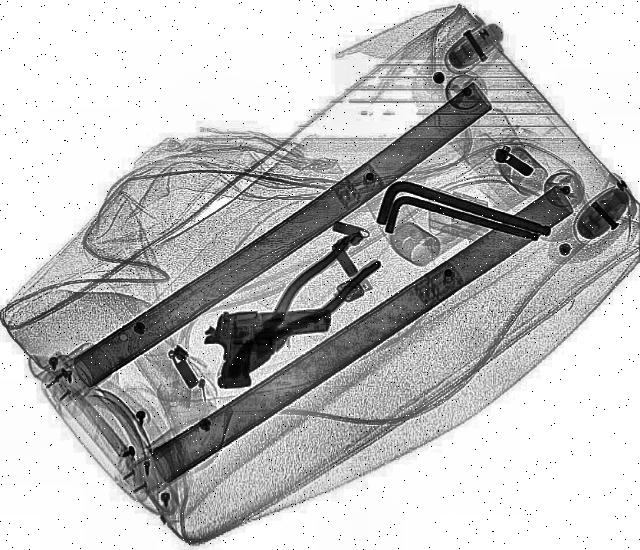Gun: (198, 310, 334, 392)
Pliers: (206, 236, 384, 392)
